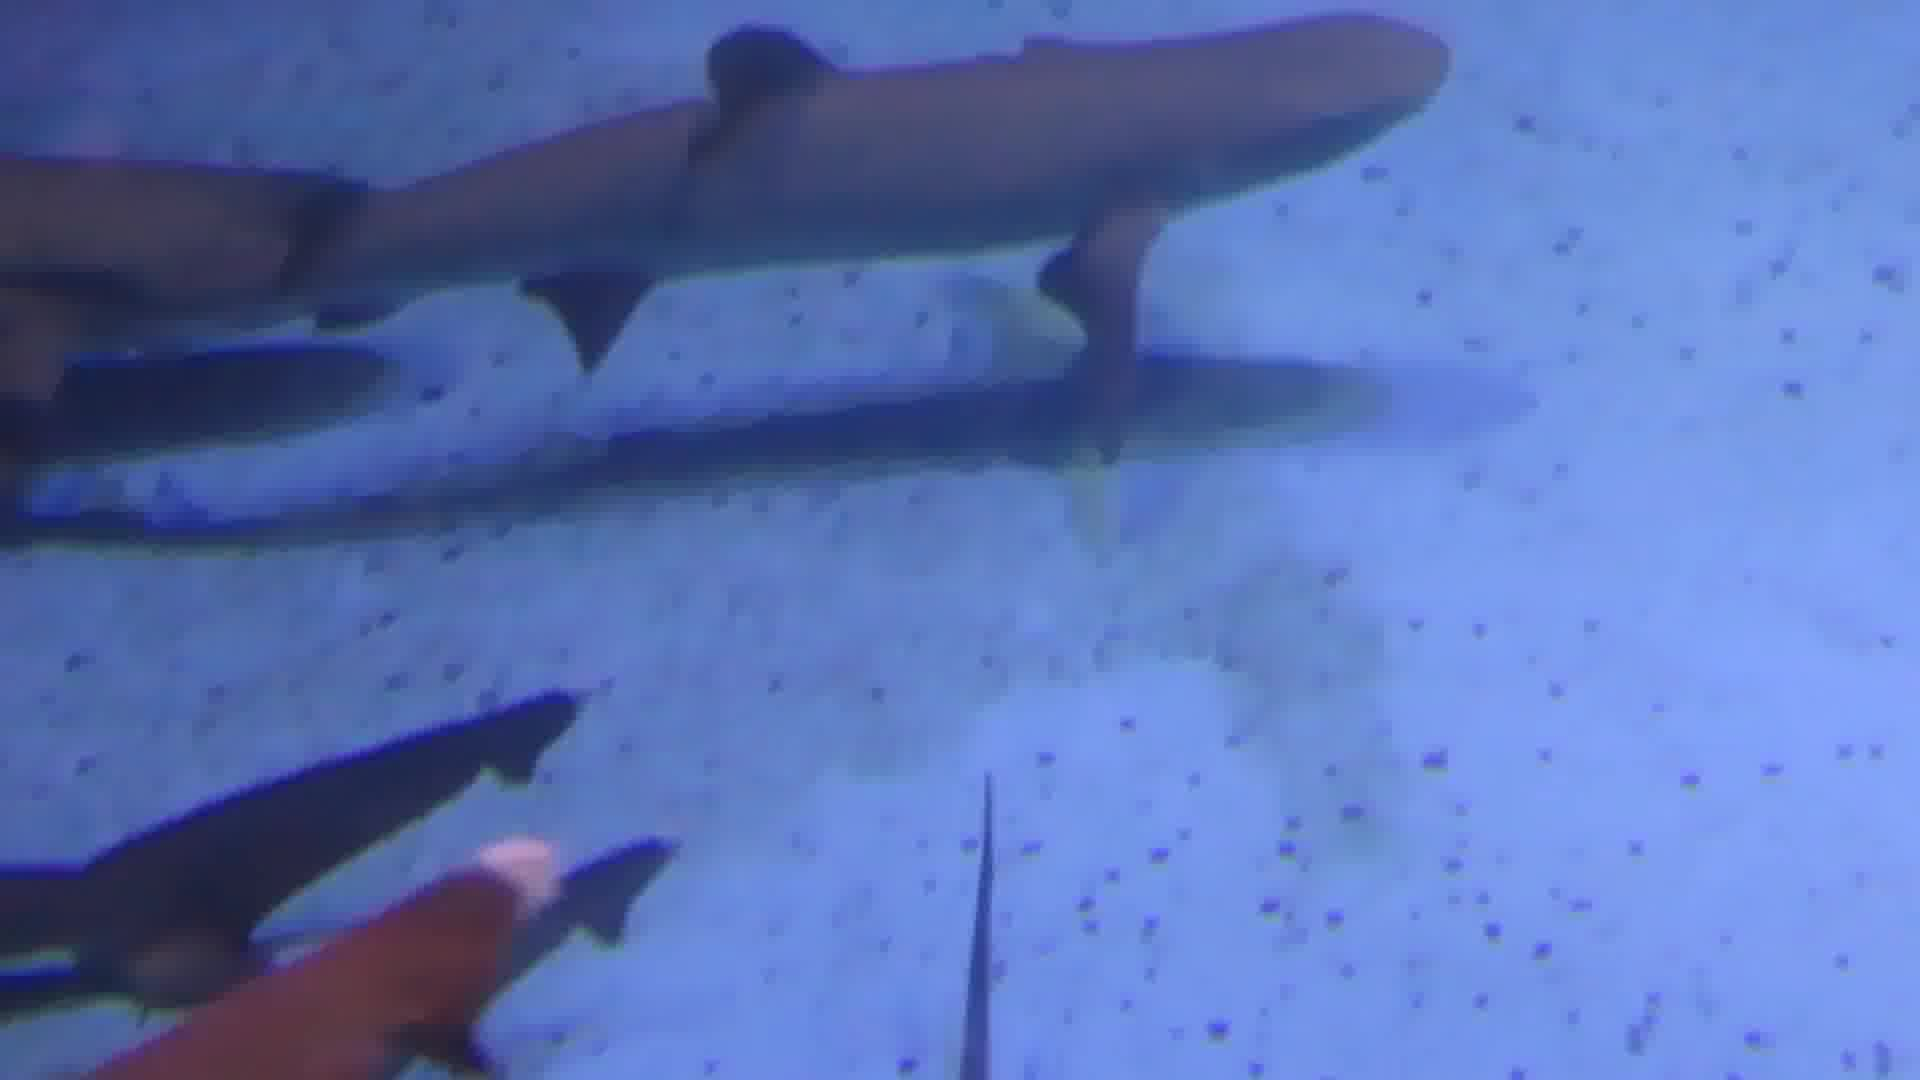Triaenodon obesus: (84, 8, 1458, 361)
